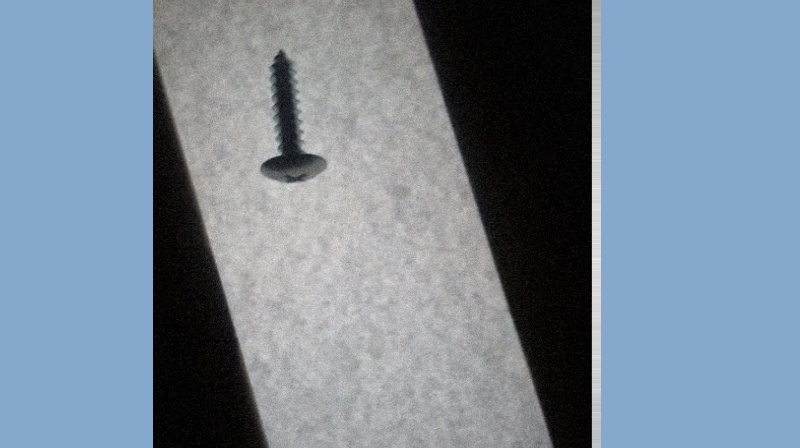S003: (257, 44, 329, 185)
